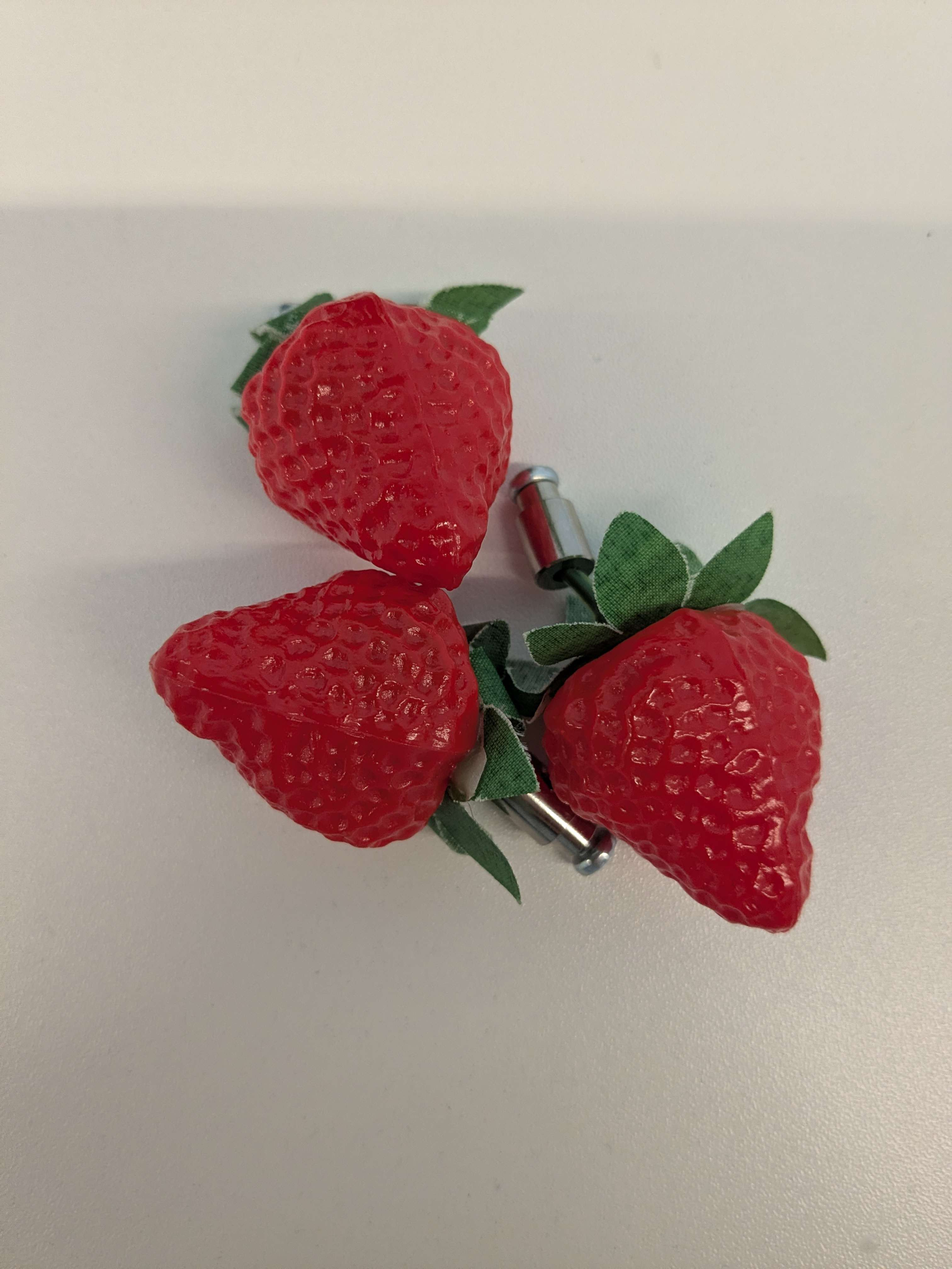Strawberry: (134, 549, 526, 911), (531, 541, 844, 944), (211, 276, 529, 589)
